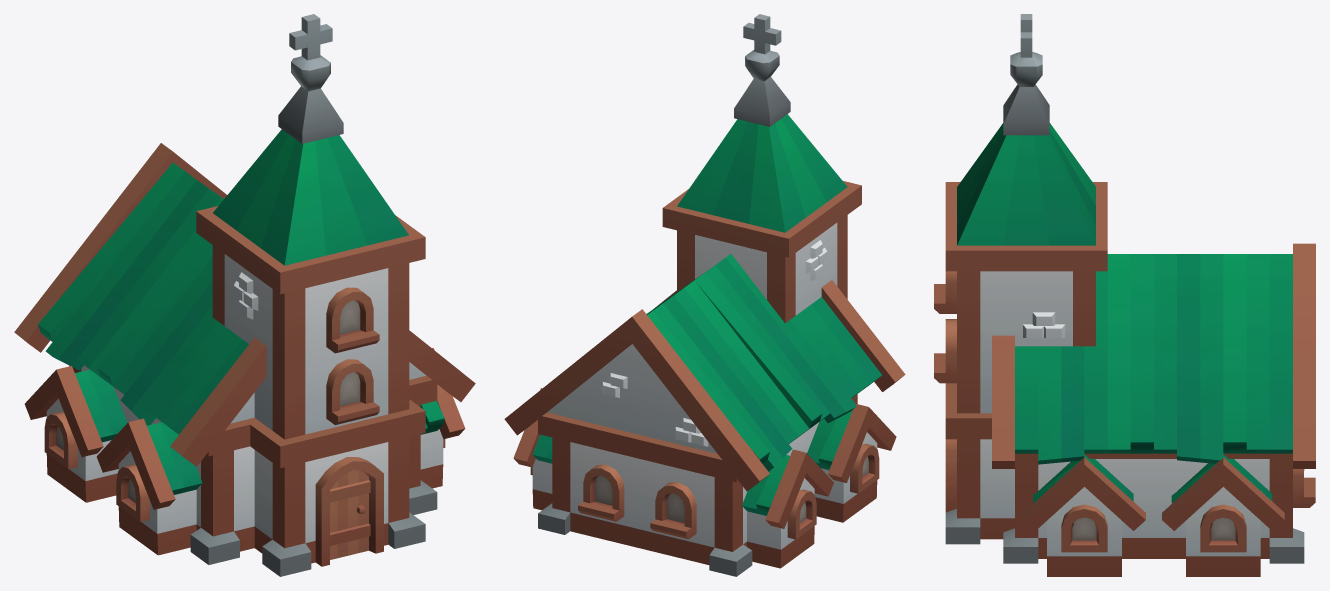
The model's file is kay-igreja-verde.gltf.
The picture shows the model from 3 angles, left to right: view 1: azimuth 30°, elevation 25°; view 2: azimuth 150°, elevation 25°; view 3: azimuth 270°, elevation 25°; orthographic projection. The views are drawn at different scales.
Parts seen in each view (by area): view 1: building_church_green; view 2: building_church_green; view 3: building_church_green.
Part boxes in pixels (left/top/right/bottom): building_church_green: left=14, top=14, right=475, bottom=576; building_church_green: left=504, top=14, right=905, bottom=576; building_church_green: left=934, top=14, right=1315, bottom=576.
Bounding box in the file's own units: 5.15 × 8.23 × 5.77.
Materials: 1 (1 with a texture image).
